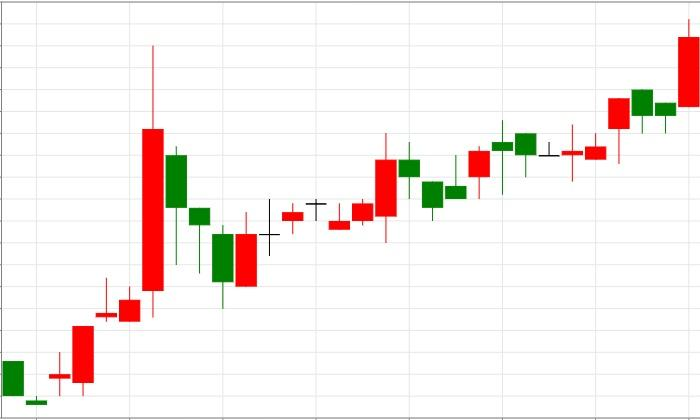three_black_crows_fall: (25, 45, 234, 406)
